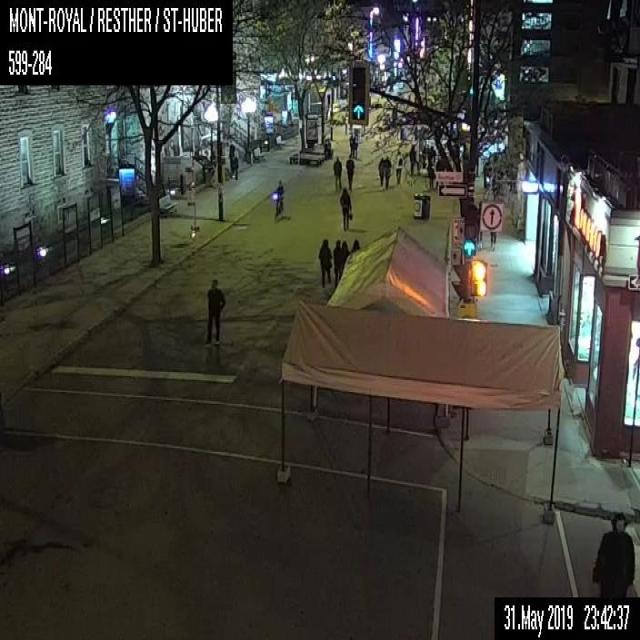cyclist: (272, 179, 284, 215)
pedestrian: (591, 509, 635, 595), (205, 277, 225, 343), (318, 239, 332, 288), (339, 186, 352, 231), (332, 238, 341, 286), (341, 238, 349, 281), (345, 153, 354, 189), (409, 144, 419, 174), (333, 155, 341, 190), (383, 155, 391, 189), (395, 150, 403, 183), (227, 138, 234, 173), (427, 163, 435, 189), (232, 150, 238, 180), (378, 156, 383, 184), (428, 145, 436, 162), (349, 238, 360, 250), (352, 131, 357, 157), (421, 144, 426, 168), (323, 139, 329, 158), (489, 230, 496, 246), (327, 138, 332, 157), (348, 132, 352, 155)
